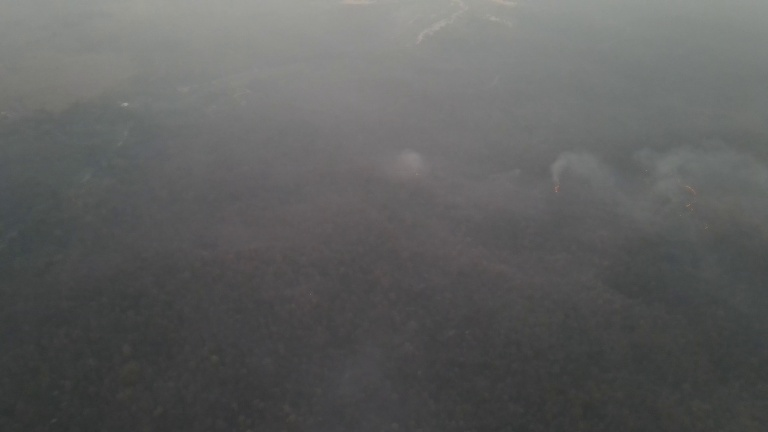fire: (672, 171, 710, 239), (548, 173, 563, 197)
smoke: (637, 143, 768, 281), (542, 151, 628, 221), (365, 138, 435, 186)
